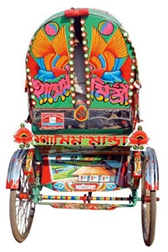Rickshaw: (6, 8, 164, 245)
